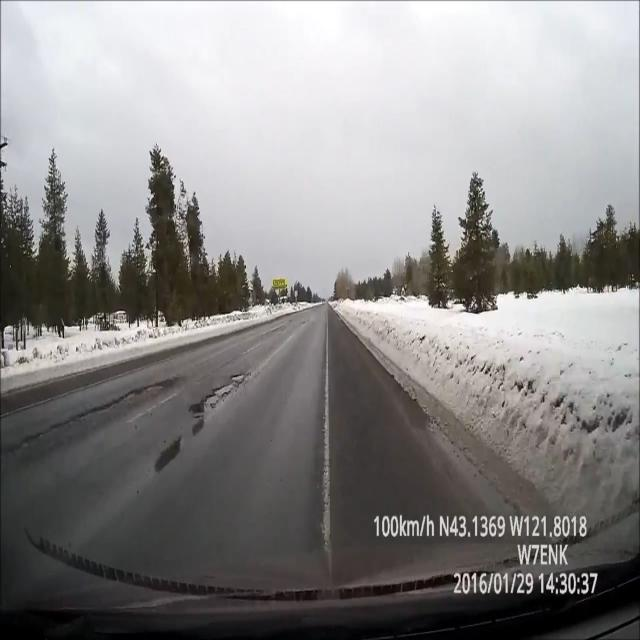Pothole: (192, 362, 253, 426)
